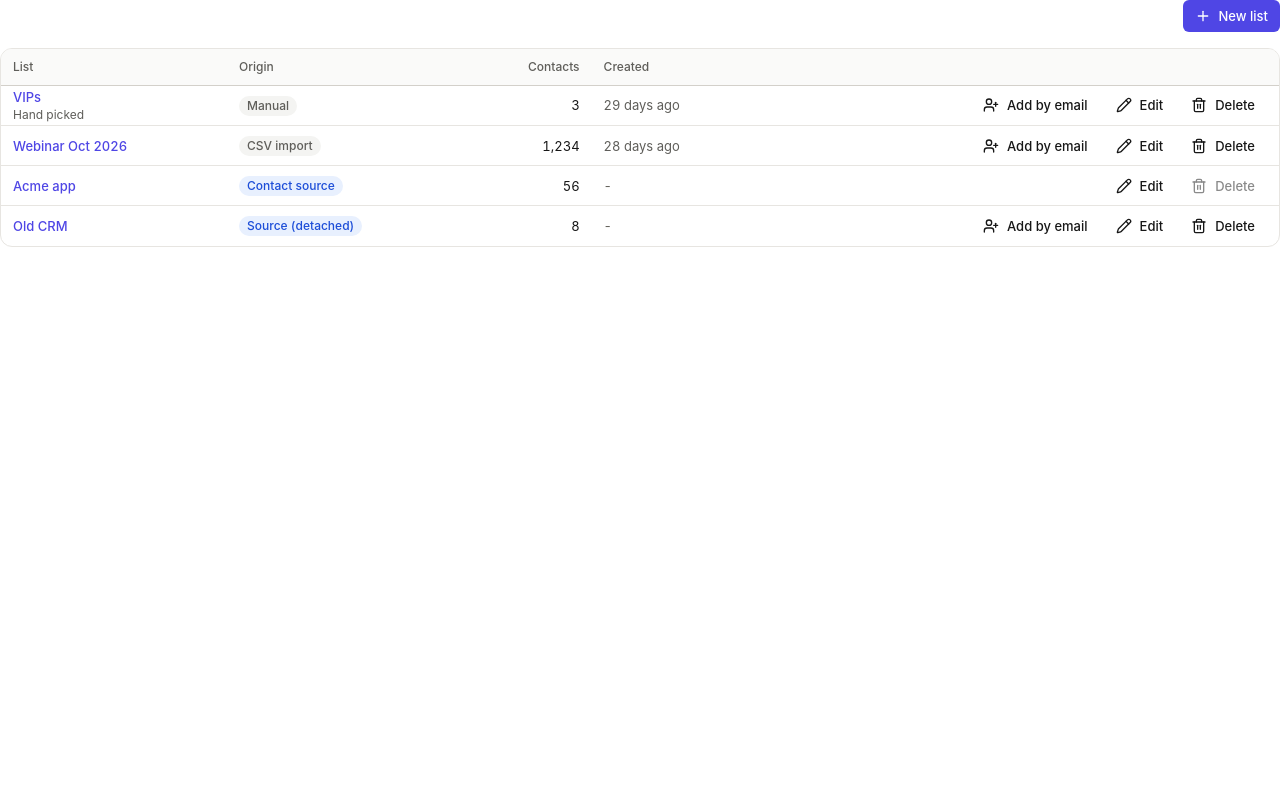
Scenario: ListsTab table › New list posts name and description and closes on success
Click the button "New list" at (1231, 16), box 1182,0 -> 1279,32
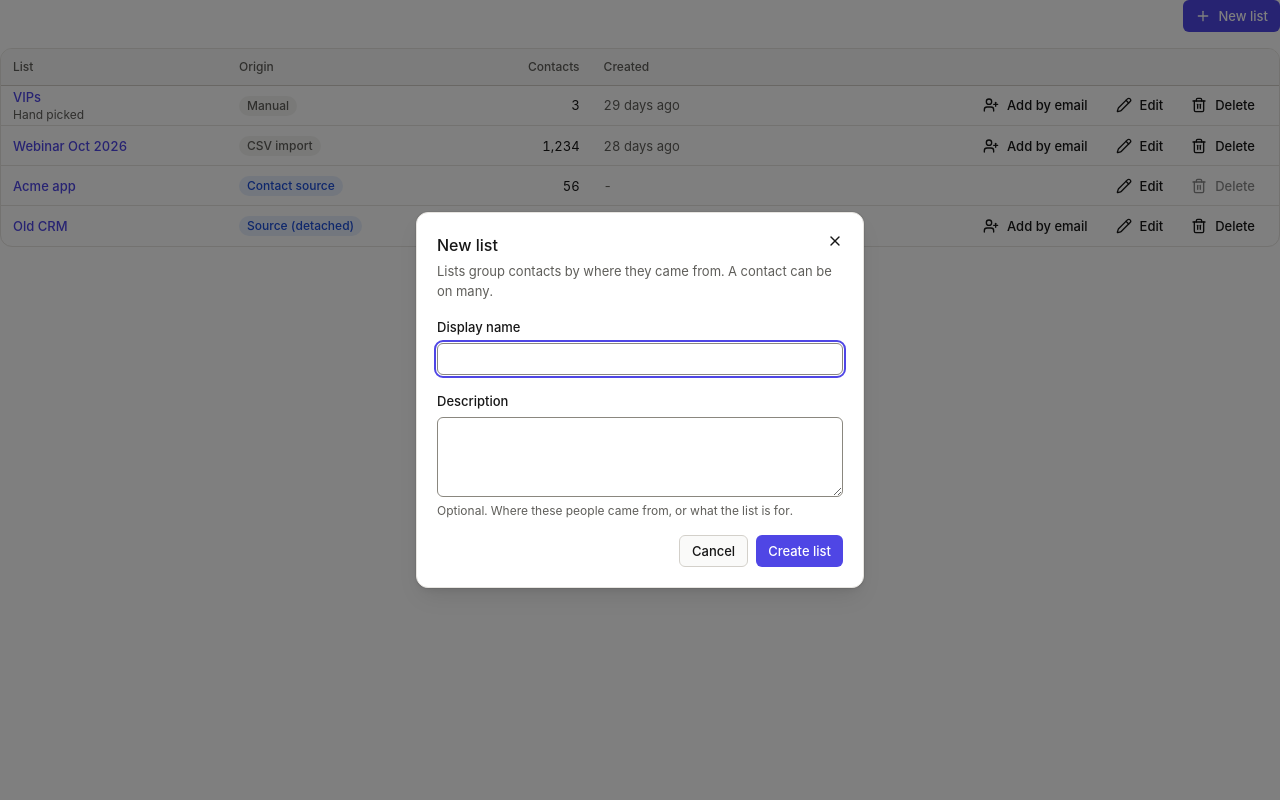
Type "Press" into the field labelled "Display name" at (640, 359), box 437,343 -> 843,375
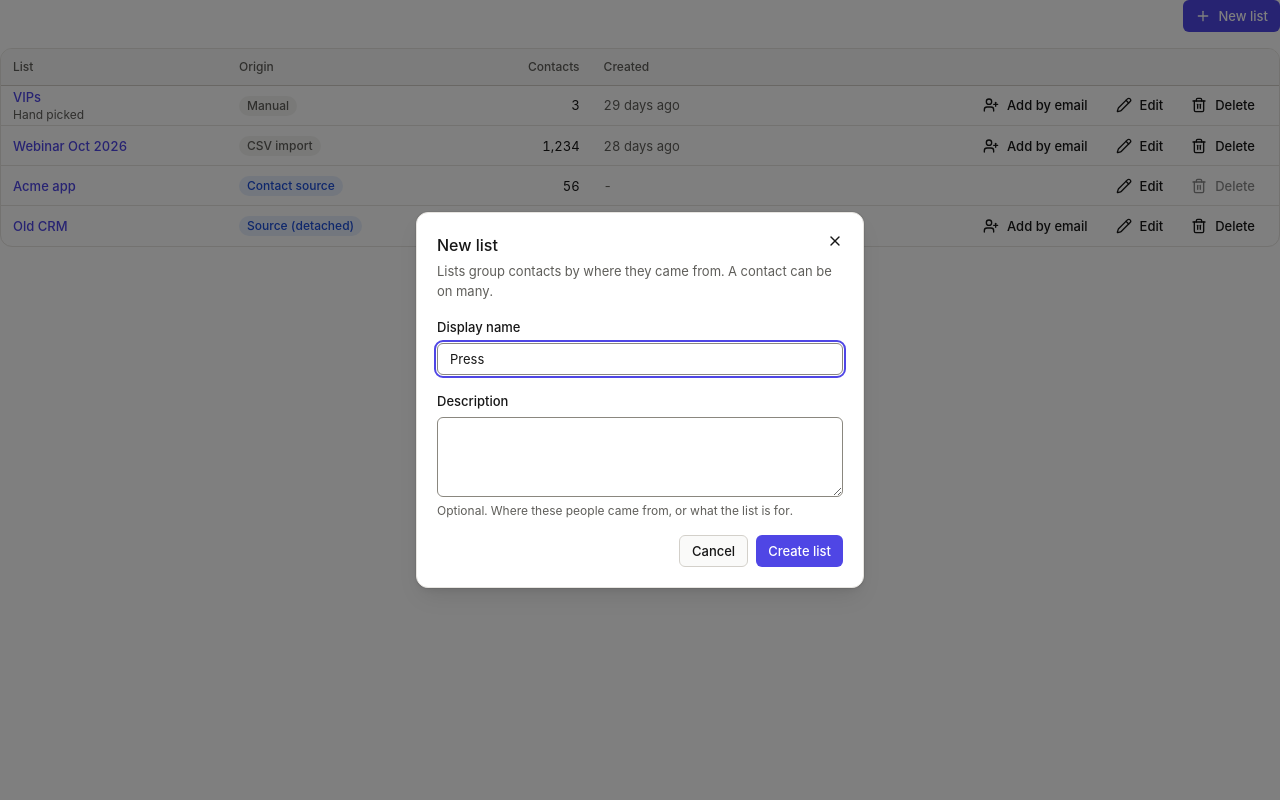
Type "Journalists" into the text box labelled "Description" at (640, 457), box 437,417 -> 843,497
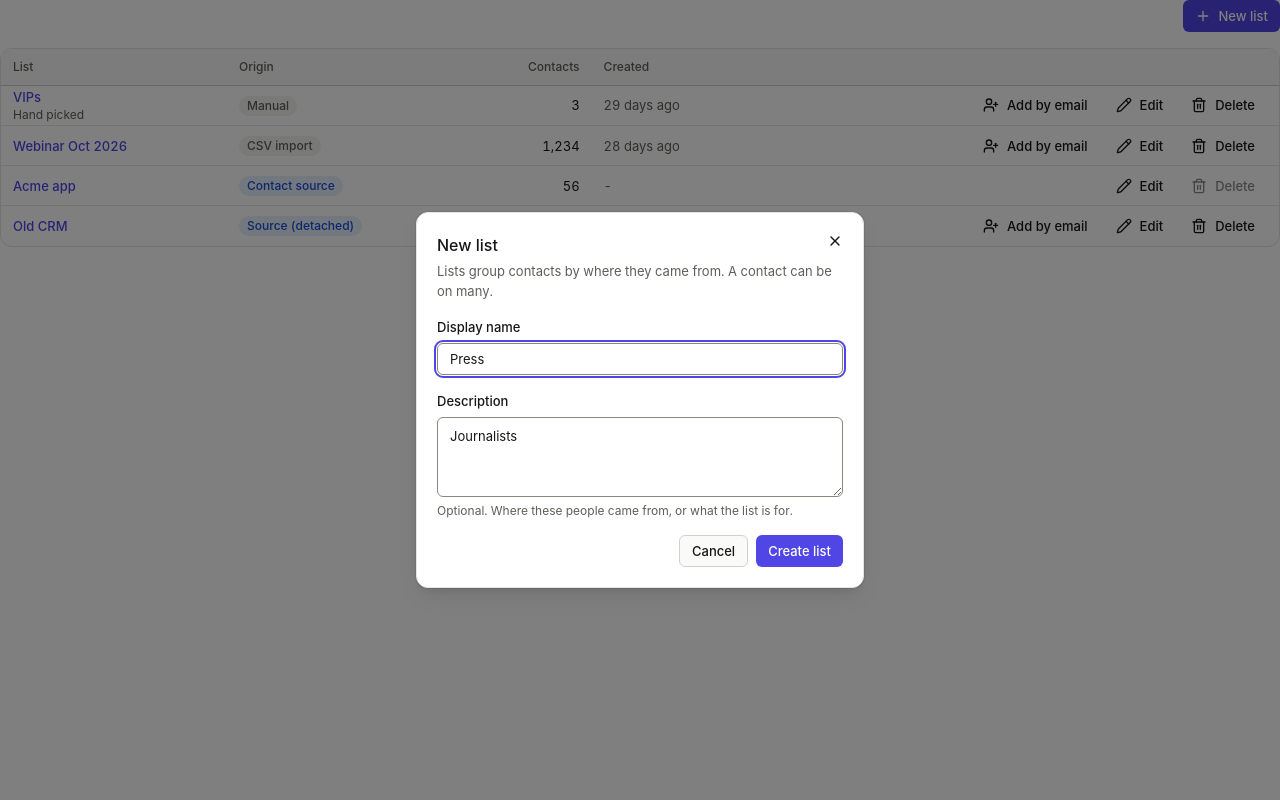
Click the button "Create list" at (800, 551), box 756,535 -> 843,567
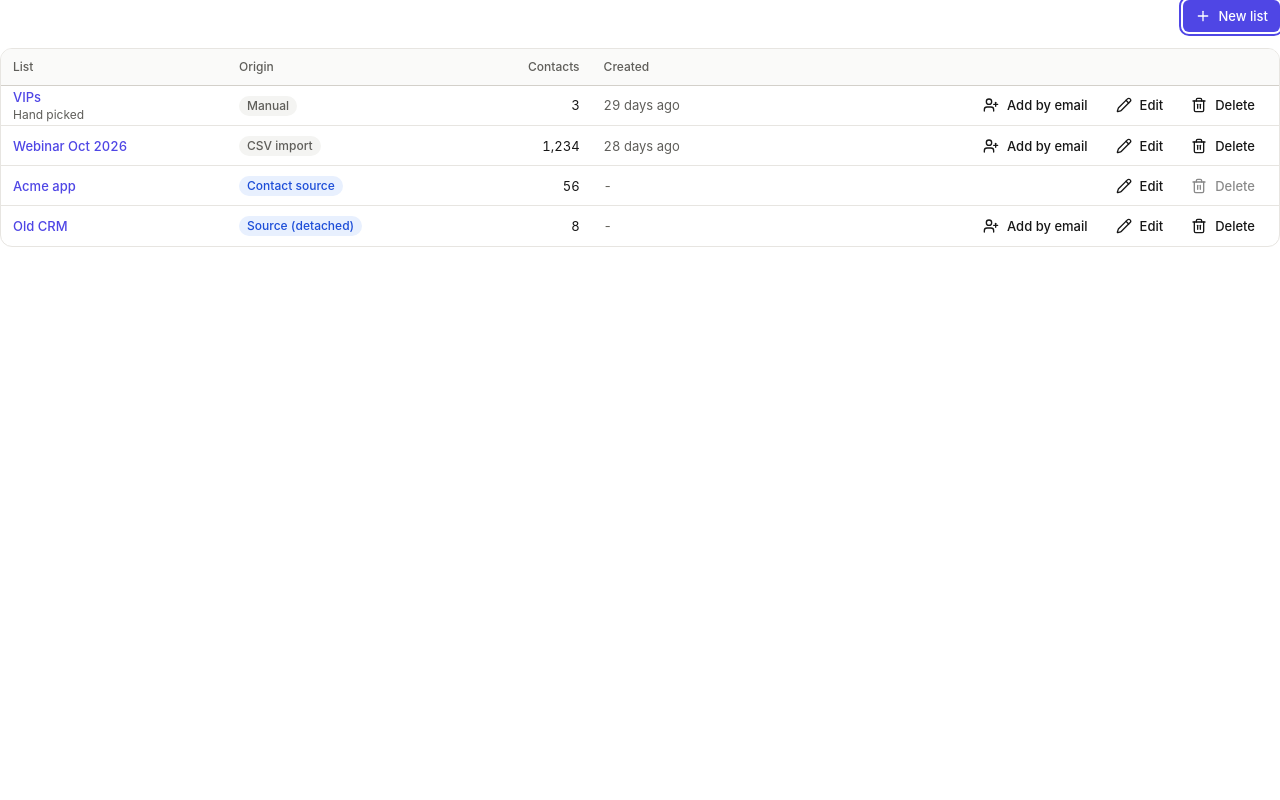
Expected: the dialog is gone
